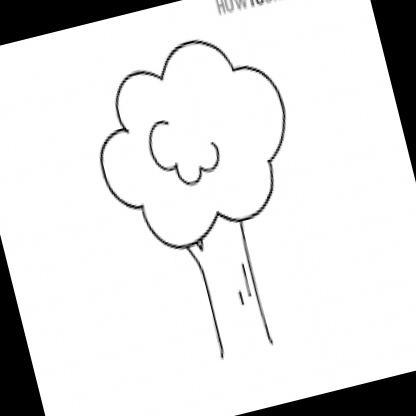crown_cloud: (72, 8, 314, 261)
trunk_bark: (194, 252, 276, 342)
